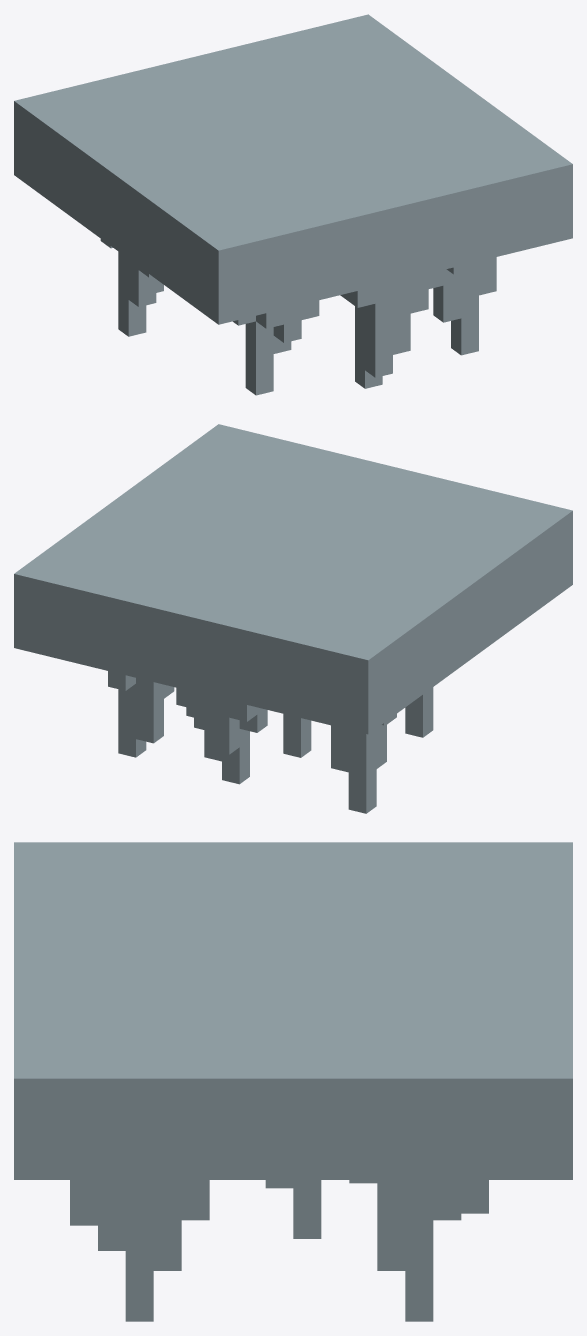
File: Floors-3.obj
3 renders of one model, top to bottom at view 1: azimuth 30°, elevation 25°; view 2: azimuth 150°, elevation 25°; view 3: azimuth 270°, elevation 25°, orthographic. The views are drawn at different scales.
Size of the model in its own units: 2 by 1.1 by 2.
Materials: 1 (1 with a texture image).
